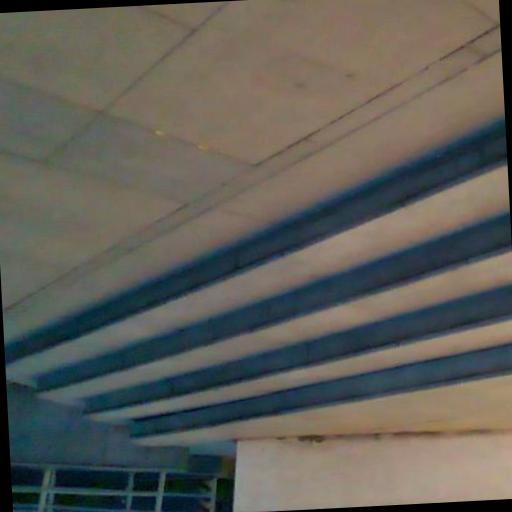stairs: (5, 132, 511, 440)
